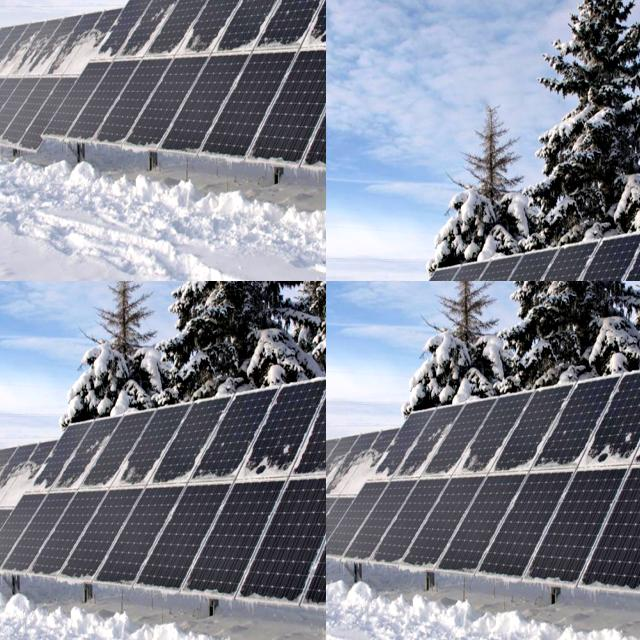panel: (436, 410, 487, 490), (490, 429, 563, 479), (75, 1, 124, 74), (331, 232, 403, 281), (580, 418, 638, 471), (370, 440, 432, 479), (326, 441, 360, 498), (28, 0, 87, 32), (596, 244, 640, 281), (540, 252, 596, 280), (30, 0, 84, 29), (0, 0, 46, 33), (326, 447, 353, 498), (18, 0, 70, 25), (69, 0, 123, 24), (0, 0, 27, 42), (38, 0, 118, 13), (326, 504, 345, 557), (0, 0, 42, 22), (92, 0, 123, 27), (0, 0, 24, 26), (0, 0, 18, 29), (326, 265, 357, 281), (0, 0, 19, 25), (0, 0, 23, 19), (0, 0, 17, 21), (0, 0, 30, 11), (0, 0, 12, 14)
shadow: (0, 281, 27, 329)
